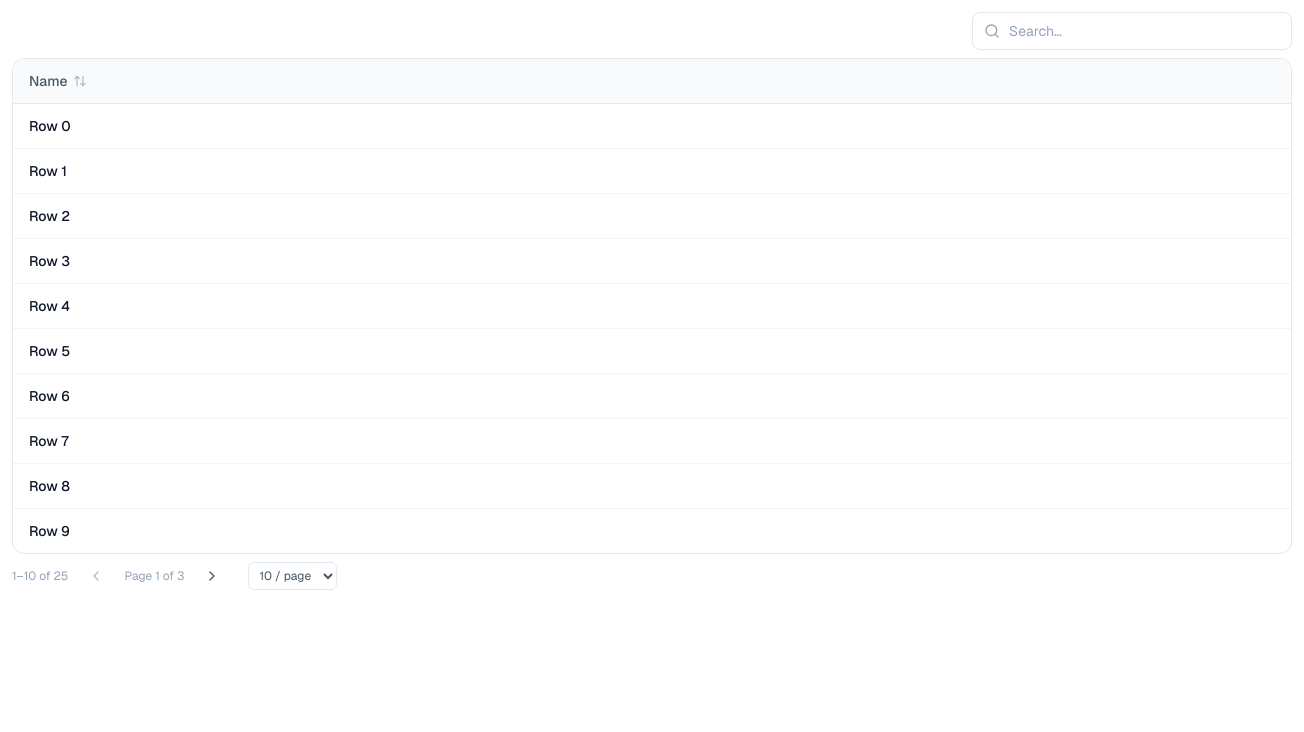
Test: DataTable › resets to the first page when the search query changes
Click the button named "Next page" at (212, 576), box 192,562 -> 232,590
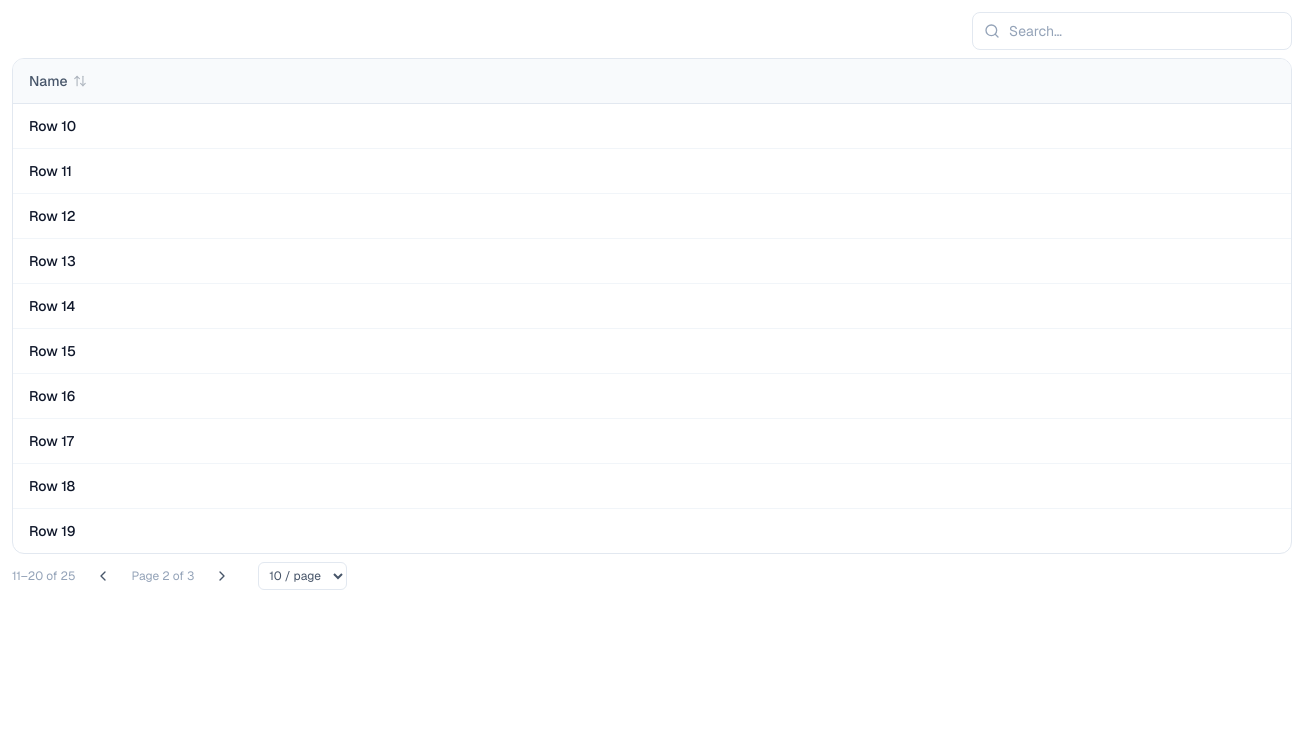
Now the text "11–20 of 25" is shown, box 12,568 -> 76,584
Type "Row 2" into the search field at (1132, 31), box 972,12 -> 1292,50
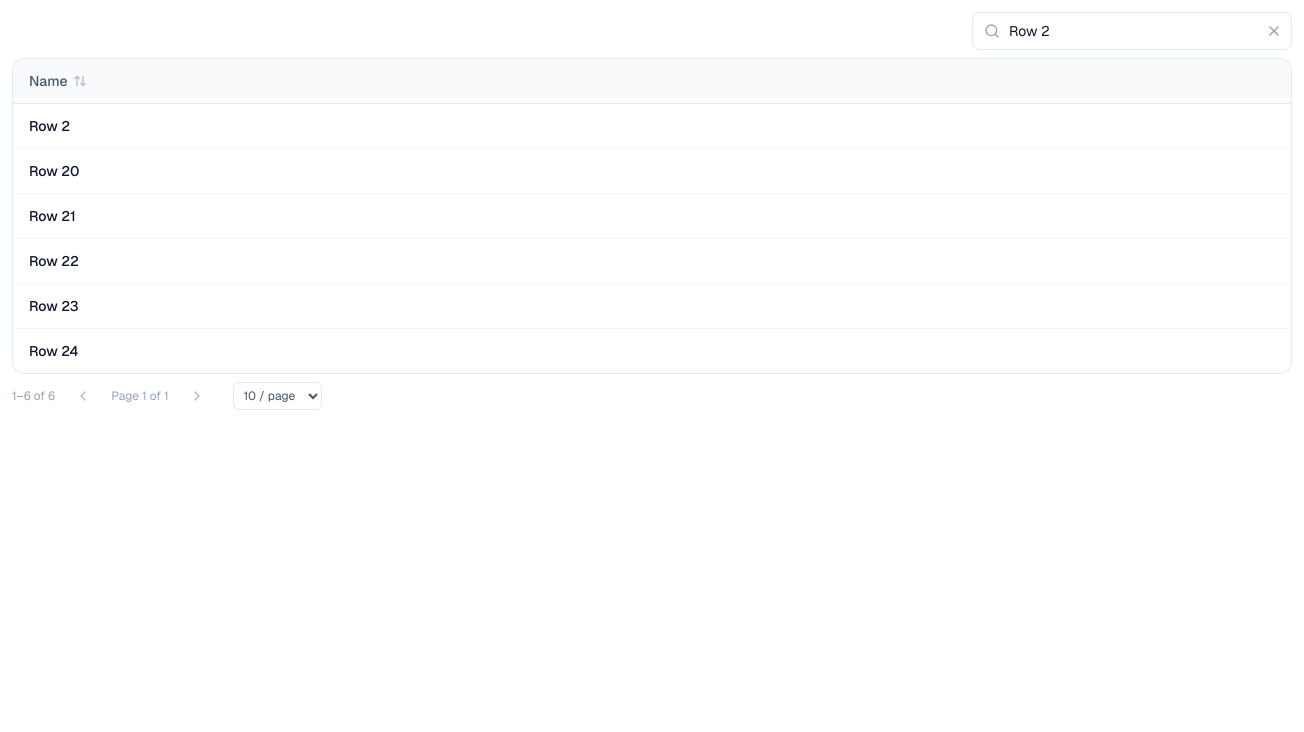
Now the text "Page 1 of 1" is shown, box 111,388 -> 168,404
